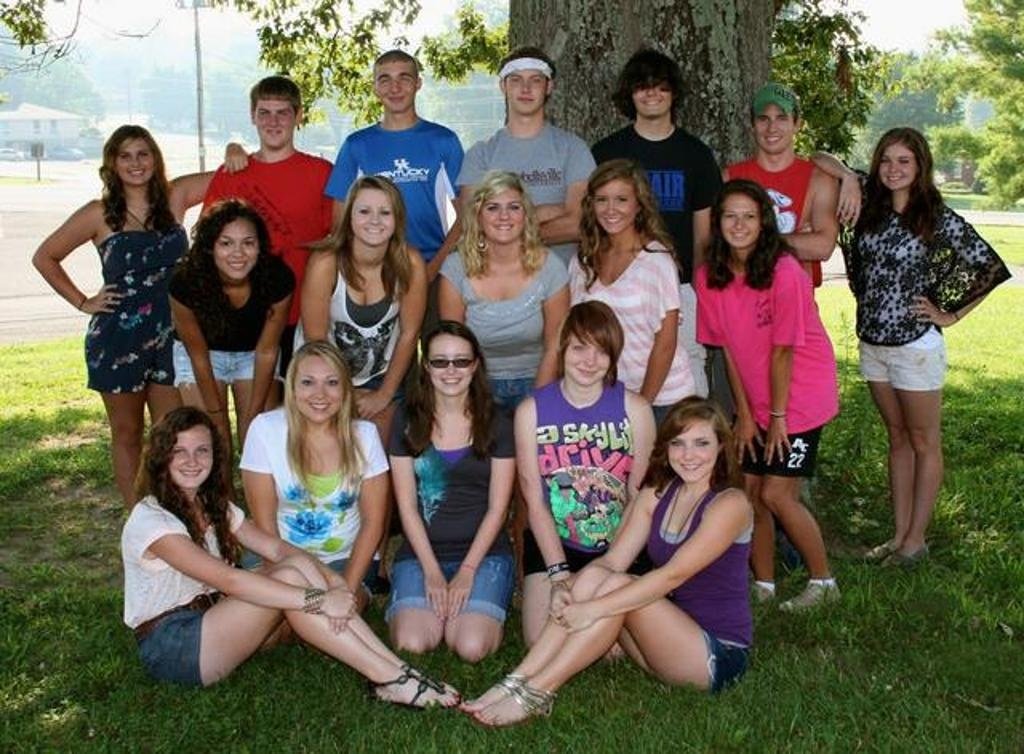human_face: (667, 419, 717, 483), (166, 426, 214, 490), (295, 355, 339, 422), (426, 336, 472, 394), (564, 329, 610, 385), (352, 188, 394, 244), (214, 222, 256, 278), (594, 182, 636, 234), (375, 63, 417, 113), (482, 190, 522, 242), (718, 196, 758, 246), (504, 67, 544, 115), (255, 97, 293, 147), (114, 138, 154, 184), (752, 106, 792, 152), (878, 142, 914, 189), (630, 78, 668, 114)
